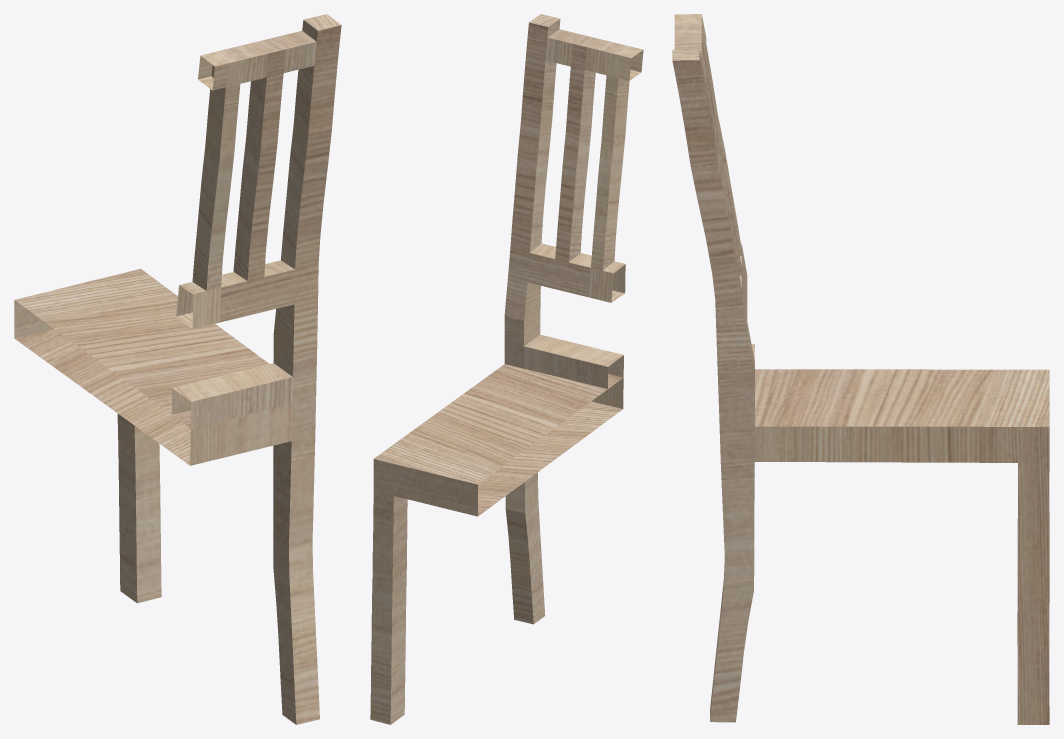
File: Chair.glb
3 renders of one model, left to right at view 1: azimuth 30°, elevation 25°; view 2: azimuth 150°, elevation 25°; view 3: azimuth 270°, elevation 25°, orthographic. The views are drawn at different scales.
Parts seen in each view (by area): view 1: Chair; view 2: Chair; view 3: Chair.
Boxes of the visible parts, <box> form: Chair: <box>14,14,341,724</box>; Chair: <box>370,14,643,724</box>; Chair: <box>672,14,1049,724</box>.
Size of what is drawn, in the model's own units: 0.2748 by 1.43 by 0.7373.
Materials: 1 (1 with a texture image).
